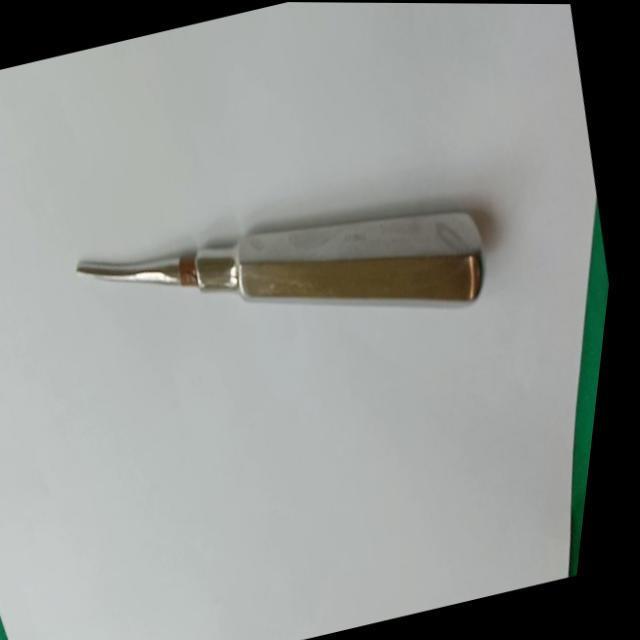Coupland1: (63, 151, 516, 411)
